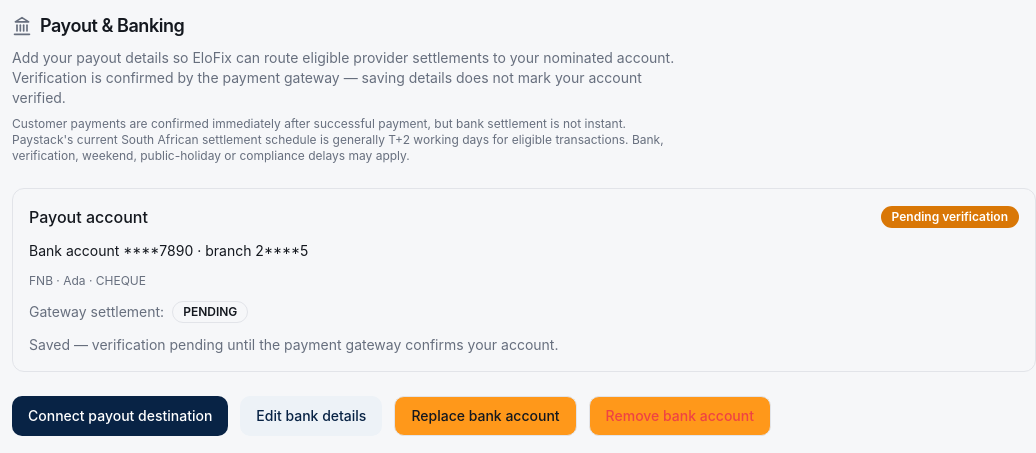
Test case: ProviderPayoutBankingPanel connect action › connects an existing bank profile and shows safe Paystack status
The image size is (1036, 453).
Expected: the text "Pending verification" is shown, x1=881 y1=206 x2=1019 y2=228
Click the button "Connect payout destination" at (120, 416), box x1=12 y1=396 x2=228 y2=436
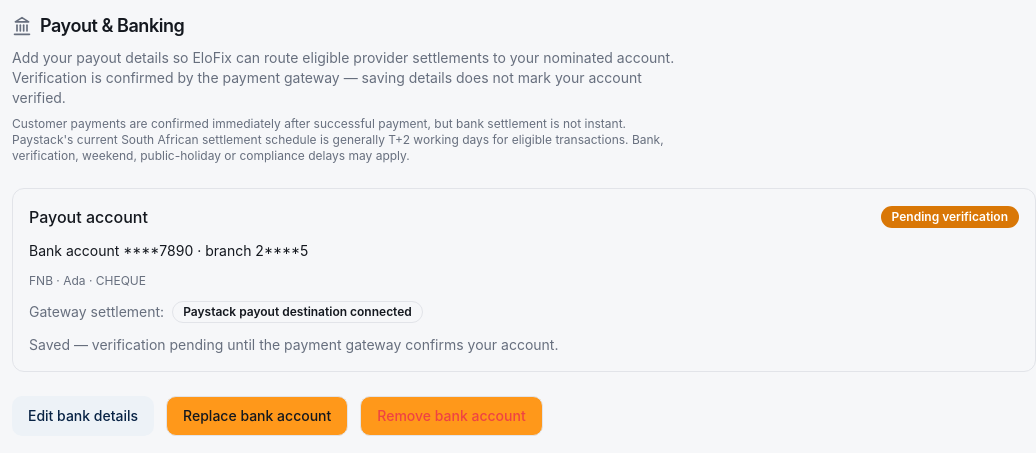
Expected: the text "Pending verification" is shown, x1=881 y1=206 x2=1019 y2=228
Now the text "Paystack payout destination connected" is shown, box x1=172 y1=301 x2=423 y2=323
